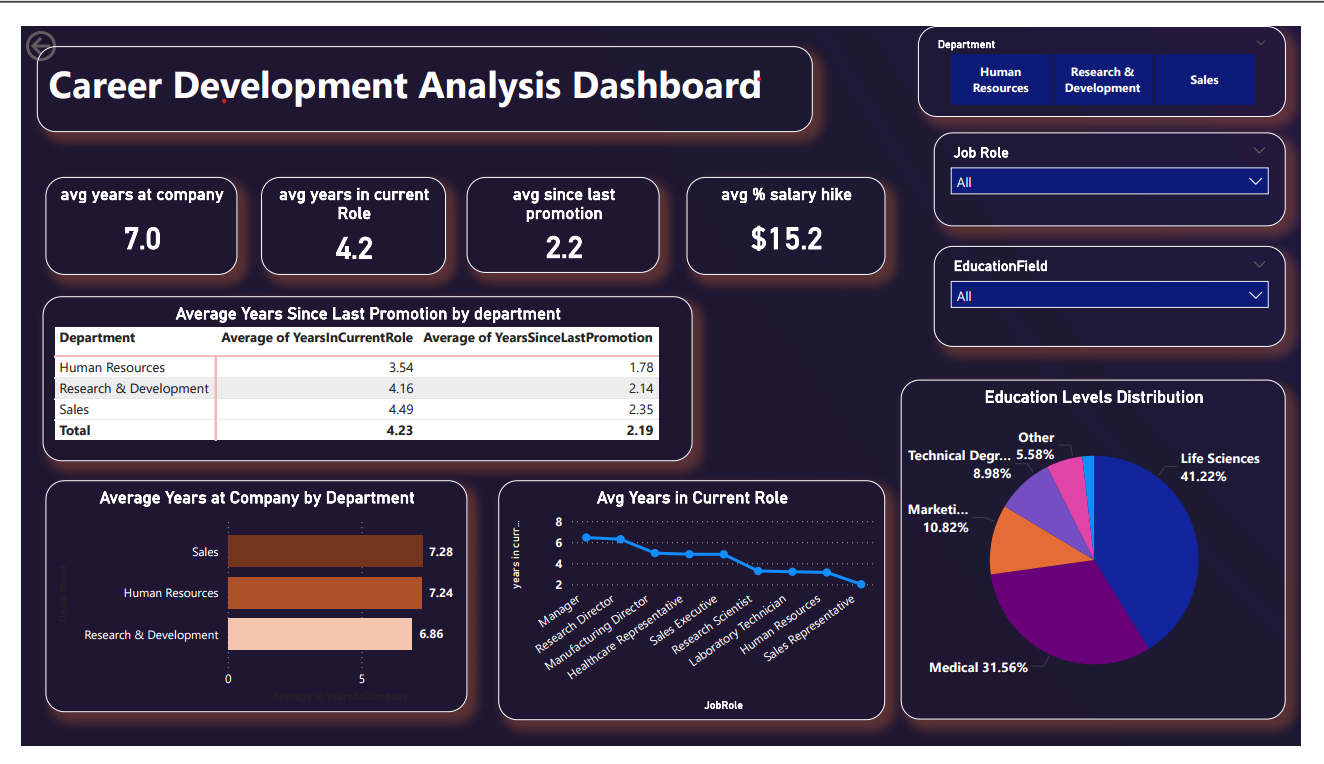

This screenshot's page, from the dashboard's own definition file:
{"tool":"powerbi","page":{"name":"Page 2","canvas":[1280,720],"ordinal":1},"visuals":[{"type":"actionButton","box":[0,0,100,40],"z":0},{"type":"slicer","fields":{"Values":["HR-Employee-Attrition.JobRole"]},"box":[912.8,106.3,351.9,94.1],"z":1},{"type":"slicer","fields":{"Values":["HR-Employee-Attrition.Department"]},"box":[897.1,0,367.5,90.6],"z":2},{"type":"textbox","box":[15.9,20.4,775.7,86.2],"z":3},{"type":"card","title":"avg years at company","fields":{"Values":["Avg(HR-Employee-Attrition.YearsAtCompany)"]},"box":[24.4,151.5,191.6,97.5],"z":4},{"type":"card","title":"avg years in current Role","fields":{"Values":["Avg(HR-Employee-Attrition.YearsInCurrentRole)"]},"box":[240.4,151.5,184.6,97.5],"z":5},{"type":"card","title":"avg since  last promotion","fields":{"Values":["Avg(HR-Employee-Attrition.YearsSinceLastPromotion)"]},"box":[445.9,151.5,193.4,95.8],"z":6},{"type":"card","title":"avg % salary hike","fields":{"Values":["Avg(HR-Employee-Attrition.PercentSalaryHike)"]},"box":[665.4,151.5,198.6,97.5],"z":7},{"type":"lineChart","title":"Avg Years in Current Role","fields":{"Y":["Avg(HR-Employee-Attrition.YearsInCurrentRole)"],"Category":["HR-Employee-Attrition.JobRole"]},"box":[477.3,454.6,386.7,240.4],"z":9},{"type":"pieChart","title":"Education Levels Distribution","fields":{"Category":["HR-Employee-Attrition.EducationField"],"Y":["Sum(HR-Employee-Attrition.EmployeeCount)"]},"box":[879.7,353.6,385,339.7],"z":10},{"type":"pivotTable","title":"Average Years Since Last Promotion by department","fields":{"Values":["Avg(HR-Employee-Attrition.YearsInCurrentRole)","Avg(HR-Employee-Attrition.YearsSinceLastPromotion)"],"Rows":["HR-Employee-Attrition.Department"]},"box":[20.9,270,649.7,165.5],"z":12},{"type":"slicer","fields":{"Values":["HR-Employee-Attrition.EducationField"]},"box":[912.8,219.5,351.9,101],"z":13},{"type":"barChart","title":"Average Years at Company by Department","fields":{"Y":["Avg(HR-Employee-Attrition.YearsAtCompany)"],"Category":["HR-Employee-Attrition.Department"]},"box":[24.4,454.6,421.5,231.7],"z":16}]}

Visuals, with their boxes in screenshot pixels (x1, y1, x2, y2), scaled from the page's 1280x720 canvas onto the 1324x764 screenshot:
actionButton: (0,0,103,42)
slicer - HR-Employee-Attrition.JobRole: (944,113,1308,213)
slicer - HR-Employee-Attrition.Department: (928,0,1308,96)
textbox: (16,22,819,113)
"avg years at company" card: (25,161,223,264)
"avg years in current Role" card: (249,161,440,264)
"avg since  last promotion" card: (461,161,661,262)
"avg % salary hike" card: (688,161,894,264)
"Avg Years in Current Role" lineChart: (494,482,894,737)
"Education Levels Distribution" pieChart: (910,375,1308,736)
"Average Years Since Last Promotion by department" pivotTable: (22,286,694,462)
slicer - HR-Employee-Attrition.EducationField: (944,233,1308,340)
"Average Years at Company by Department" barChart: (25,482,461,728)
